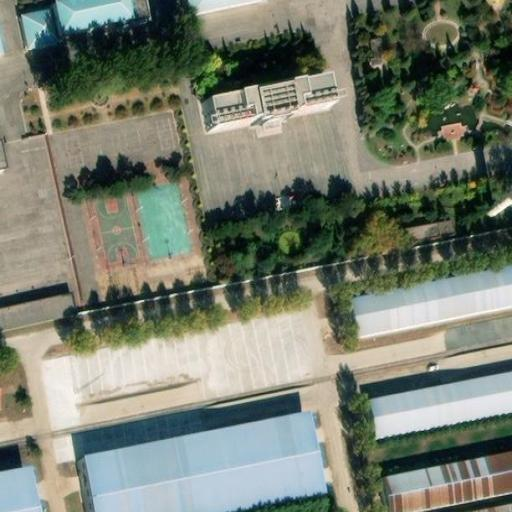building: (83, 411, 321, 512), (344, 265, 512, 341), (371, 371, 512, 440), (373, 446, 512, 512), (205, 84, 338, 136), (49, 0, 155, 45), (35, 345, 86, 428), (0, 292, 80, 329), (439, 221, 512, 261), (0, 464, 37, 512), (20, 6, 57, 51), (397, 217, 454, 242), (437, 116, 466, 139)
